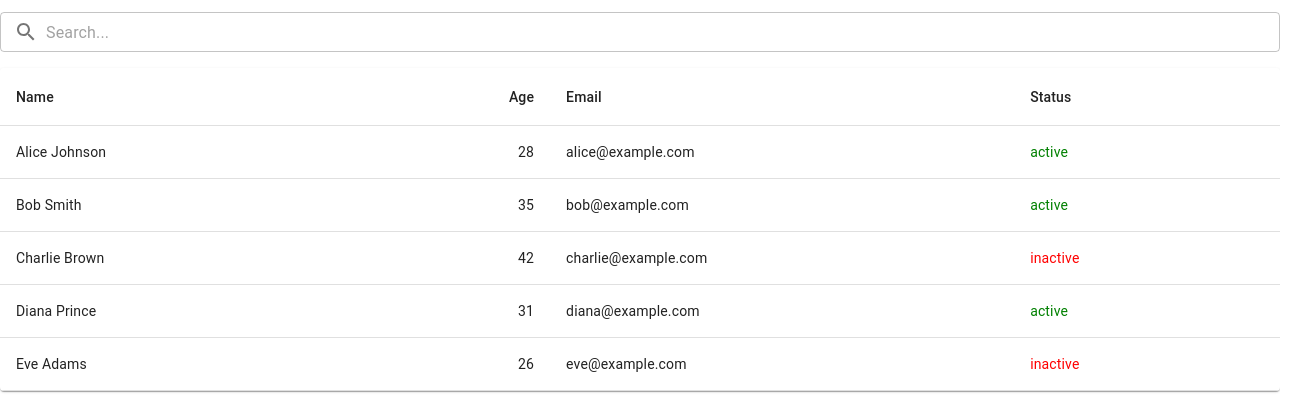
Test case: ModernTable Component › Search Functionality (Requirement 43.8) › should search across all columns by default
// Search by email
In the field with placeholder "Search...": coordinates (663, 32) left=46, top=12, right=1280, bottom=52, type "bob@example"
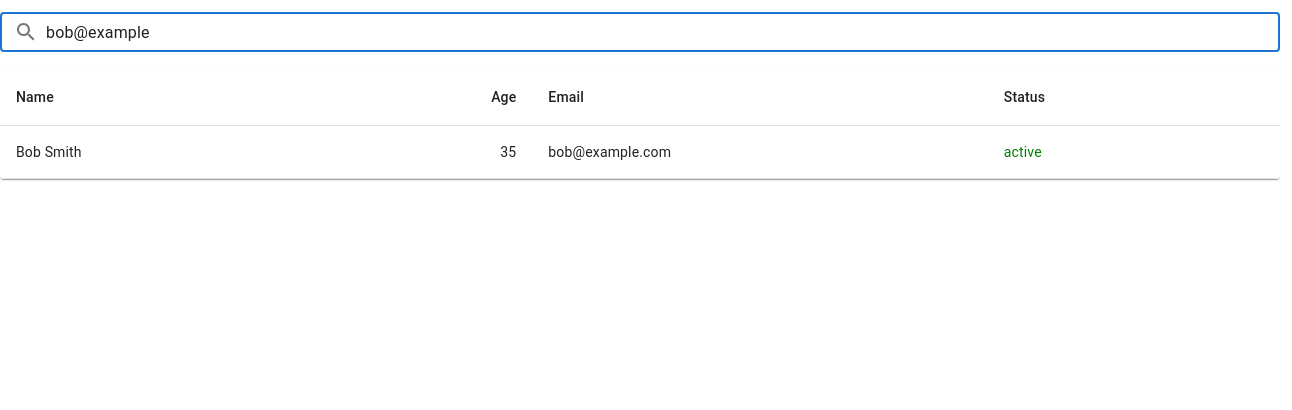
Expected: the text "Bob Smith" is shown, left=0, top=126, right=288, bottom=179
Expected: the text "Alice Johnson" is gone
